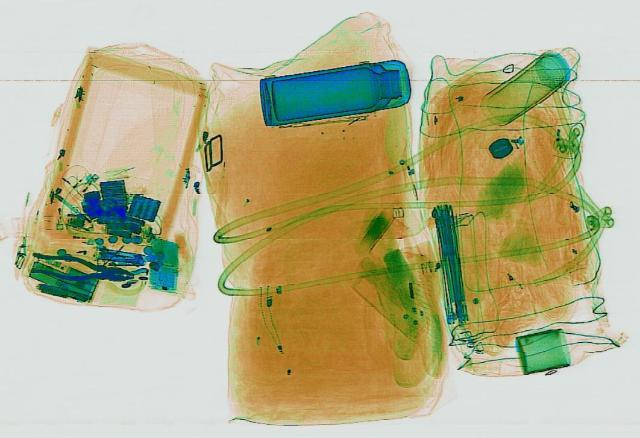Pliers: (24, 250, 136, 286)
